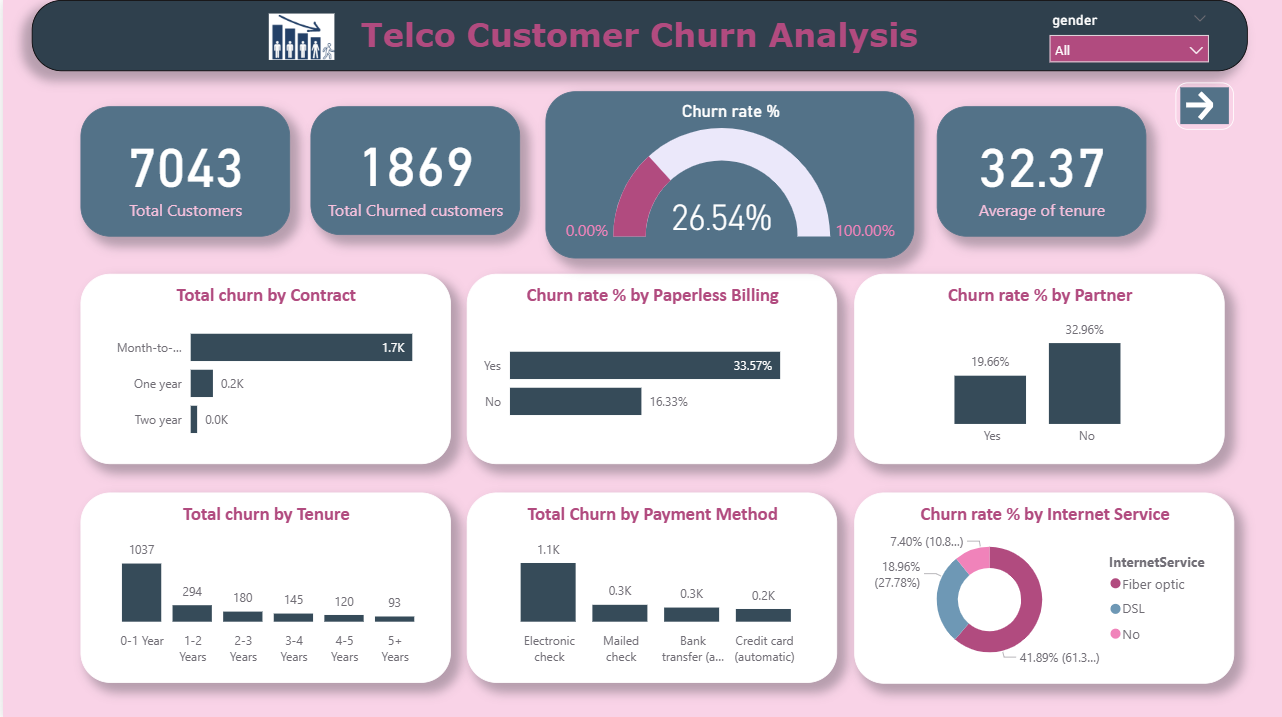

The dashboard page shown, as its layout file describes it:
{"tool":"powerbi","page":{"name":"Dashboard","canvas":[1280,720],"ordinal":0},"visuals":[{"type":"card","fields":{"Values":["Count(Telco-Customer-Details.customerID)"]},"box":[77.1,106.4,209.9,130.4],"z":0,"group":"g1"},{"type":"barChart","title":"Total churn by Contract","fields":{"Category":["Telco-Customer-Details.Contract"],"Y":["Sum(Telco-Customer-Details.Churn Flag)"]},"box":[77.1,274.3,370,190],"z":0},{"type":"card","fields":{"Values":["Sum(Telco-Customer-Details.Churn Flag)"]},"box":[306.7,106.4,209.9,129],"z":1000,"group":"g1"},{"type":"columnChart","title":"Total churn by Tenure","fields":{"Category":["Telco-Customer-Details.Tenure Buckets"],"Y":["Sum(Telco-Customer-Details.Churn Flag)"]},"box":[77.1,492.9,370,190],"z":1000},{"type":"columnChart","title":"Total Churn by Payment Method","fields":{"Y":["Sum(Telco-Customer-Details.Churn Flag)"],"Category":["Telco-Customer-Details.PaymentMethod"]},"box":[464.3,492.9,370,190],"z":2000},{"type":"card","fields":{"Values":["Avg(Telco-Customer-Details.tenure)"]},"box":[933.8,106.5,209.9,130.4],"z":3000,"group":"g1"},{"type":"barChart","title":"Churn rate % by Paperless Billing","fields":{"Category":["Telco-Customer-Details.PaperlessBilling"],"Y":["Telco-Customer-Details.Churn rate %"]},"box":[464.3,274.3,370,190],"z":3000},{"type":"textbox","box":[28.8,0,1215.8,71.4],"z":4000},{"type":"gauge","title":"Churn rate %","fields":{"Y":["Telco-Customer-Details.Churn rate %"]},"box":[542.7,91.4,369.1,167.4],"z":4000,"group":"g1"},{"type":"group","id":"g1","title":"Group 1","box":[77.1,91.4,1067.1,168.6],"z":5000},{"type":"donutChart","title":"Churn rate % by Internet Service","fields":{"Category":["Telco-Customer-Details.InternetService"],"Y":["Telco-Customer-Details.Churn rate %"]},"box":[851.4,492.9,380,191.4],"z":6000},{"type":"slicer","fields":{"Values":["Telco-Customer-Details.gender"]},"box":[1036,6.9,179.8,59],"z":8000},{"type":"actionButton","box":[1172.9,82.9,58.6,47.1],"z":9000},{"type":"image","box":[225,8.2,146.8,56.3],"z":10000},{"type":"clusteredColumnChart","fields":{"Category":["Telco-Customer-Details.Partner"],"Y":["Telco-Customer-Details.Churn rate %"]},"box":[851.4,274.3,370,190],"z":11000}]}

Visuals, with their boxes in screenshot pixels (x1, y1, x2, y2), scaled from the page's 1280x720 canvas onto the 1282x717 screenshot:
card - Count(Telco-Customer-Details.customerID): (77, 106, 287, 236)
"Total churn by Contract" barChart: (77, 273, 448, 462)
card - Sum(Telco-Customer-Details.Churn Flag): (307, 106, 517, 234)
"Total churn by Tenure" columnChart: (77, 491, 448, 680)
"Total Churn by Payment Method" columnChart: (465, 491, 836, 680)
card - Avg(Telco-Customer-Details.tenure): (935, 106, 1145, 236)
"Churn rate % by Paperless Billing" barChart: (465, 273, 836, 462)
textbox: (29, 0, 1247, 71)
"Churn rate %" gauge: (544, 91, 913, 258)
"Group 1" group: (77, 91, 1146, 259)
"Churn rate % by Internet Service" donutChart: (853, 491, 1233, 681)
slicer - Telco-Customer-Details.gender: (1038, 7, 1218, 66)
actionButton: (1175, 83, 1233, 129)
image: (225, 8, 372, 64)
clusteredColumnChart - Telco-Customer-Details.Partner x Telco-Customer-Details.Churn rate %: (853, 273, 1223, 462)
